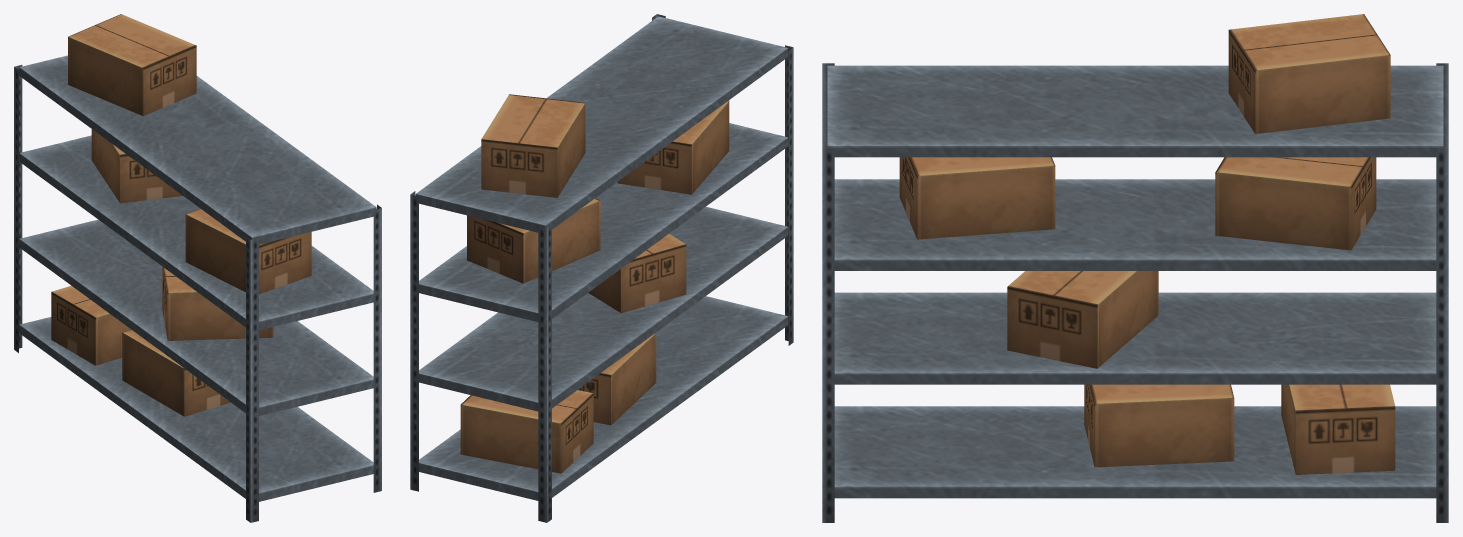
Rendered from Obstacle01.fbx.
3 views of the same model, side by side, from view 1: azimuth 30°, elevation 25°; view 2: azimuth 150°, elevation 25°; view 3: azimuth 270°, elevation 25° (orthographic). The views are drawn at different scales.
Visible parts, largest first — view 1: Garage_01_Shelf, Garage_01_Box, Garage_01_Box__2_, Garage_01_Box__4_, Garage_01_Box__5_, Garage_01_Box__3_, Garage_01_Box__1_; view 2: Garage_01_Shelf, Garage_01_Box, Garage_01_Box__5_, Garage_01_Box__1_, Garage_01_Box__2_, Garage_01_Box__3_, Garage_01_Box__4_; view 3: Garage_01_Shelf, Garage_01_Box, Garage_01_Box__1_, Garage_01_Box__3_, Garage_01_Box__4_, Garage_01_Box__2_, Garage_01_Box__5_.
Boxes of the visible parts, x1,y1,x2,y2 form: Garage_01_Shelf: (14, 55, 381, 522); Garage_01_Box: (68, 14, 196, 116); Garage_01_Box__2_: (185, 208, 311, 294); Garage_01_Box__4_: (122, 329, 230, 416); Garage_01_Box__5_: (51, 285, 130, 365); Garage_01_Box__3_: (162, 266, 273, 340); Garage_01_Box__1_: (91, 129, 182, 203); Garage_01_Shelf: (410, 14, 793, 522); Garage_01_Box: (481, 94, 585, 197); Garage_01_Box__5_: (460, 390, 593, 473); Garage_01_Box__1_: (467, 198, 600, 283); Garage_01_Box__2_: (617, 100, 729, 194); Garage_01_Box__3_: (588, 234, 686, 313); Garage_01_Box__4_: (578, 333, 656, 425); Garage_01_Shelf: (822, 63, 1448, 522); Garage_01_Box: (1228, 14, 1390, 133); Garage_01_Box__1_: (1215, 157, 1376, 250); Garage_01_Box__3_: (1007, 271, 1158, 368); Garage_01_Box__4_: (1084, 384, 1234, 467); Garage_01_Box__2_: (899, 157, 1055, 239); Garage_01_Box__5_: (1281, 384, 1395, 474).
Size of the model in its own units: 160 by 386 by 500.
